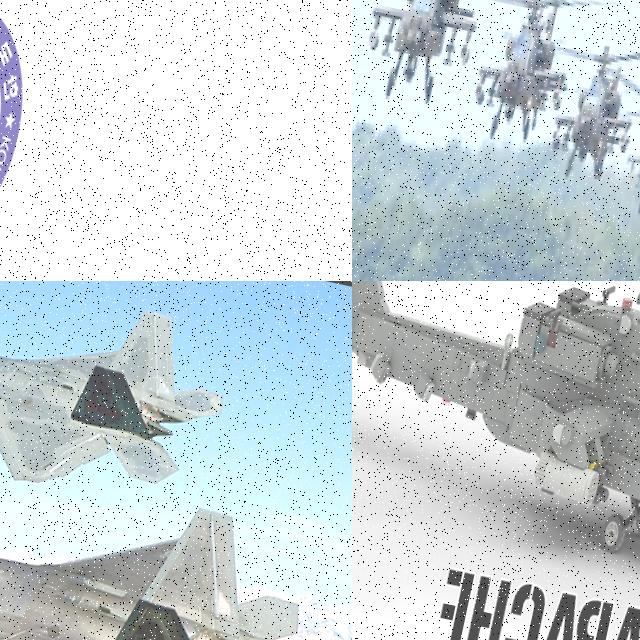Apache: (352, 281, 640, 615), (431, 0, 622, 162), (352, 0, 587, 127), (537, 17, 640, 199), (601, 45, 640, 232)
F22: (0, 422, 318, 640), (0, 281, 238, 529)
KAU_Marker: (0, 0, 44, 254)
